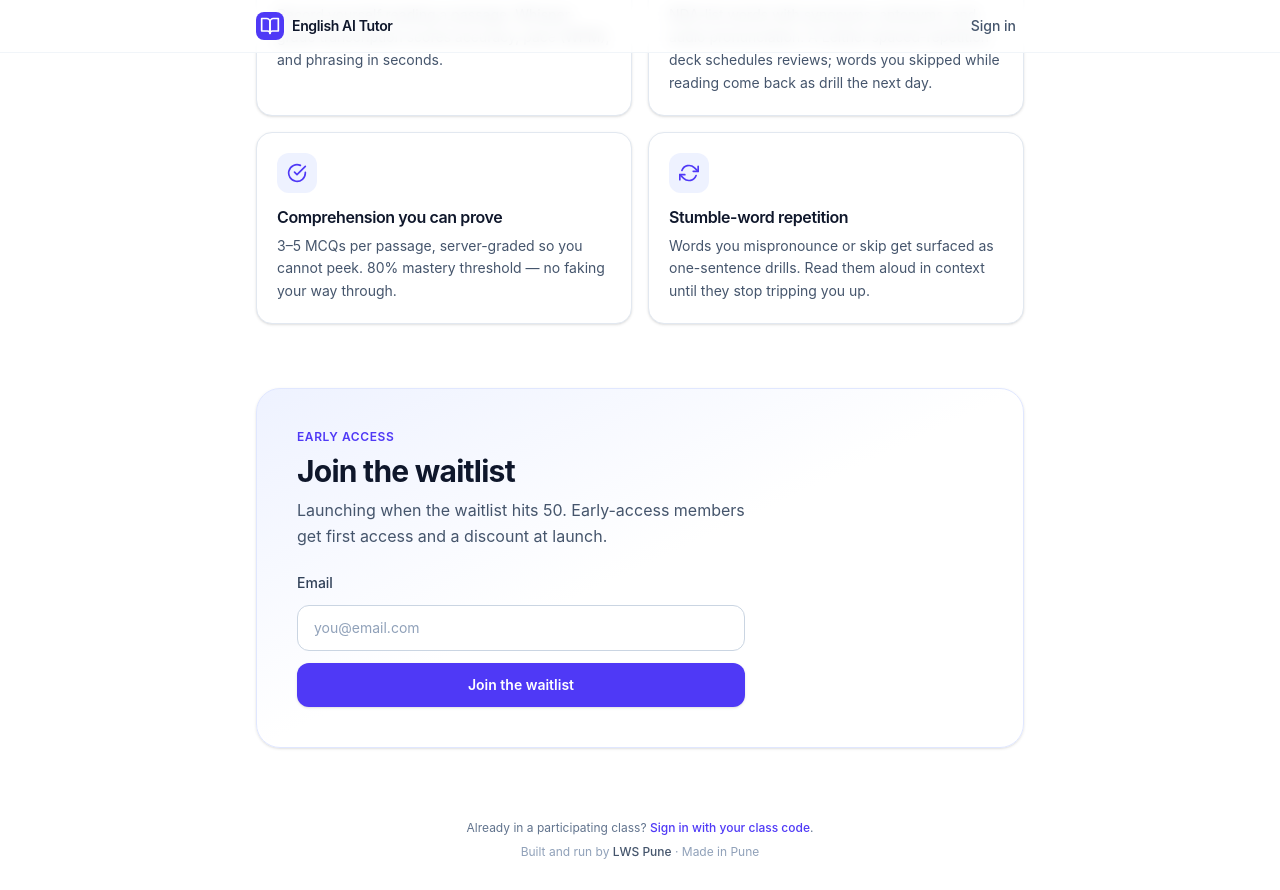
Test: LandingPage — waitlist form › shows a generic error for non-duplicate failures
(page scrolled)
Type "a@b.com" into the field labelled "Email" at (521,628), box [297,605,745,651]
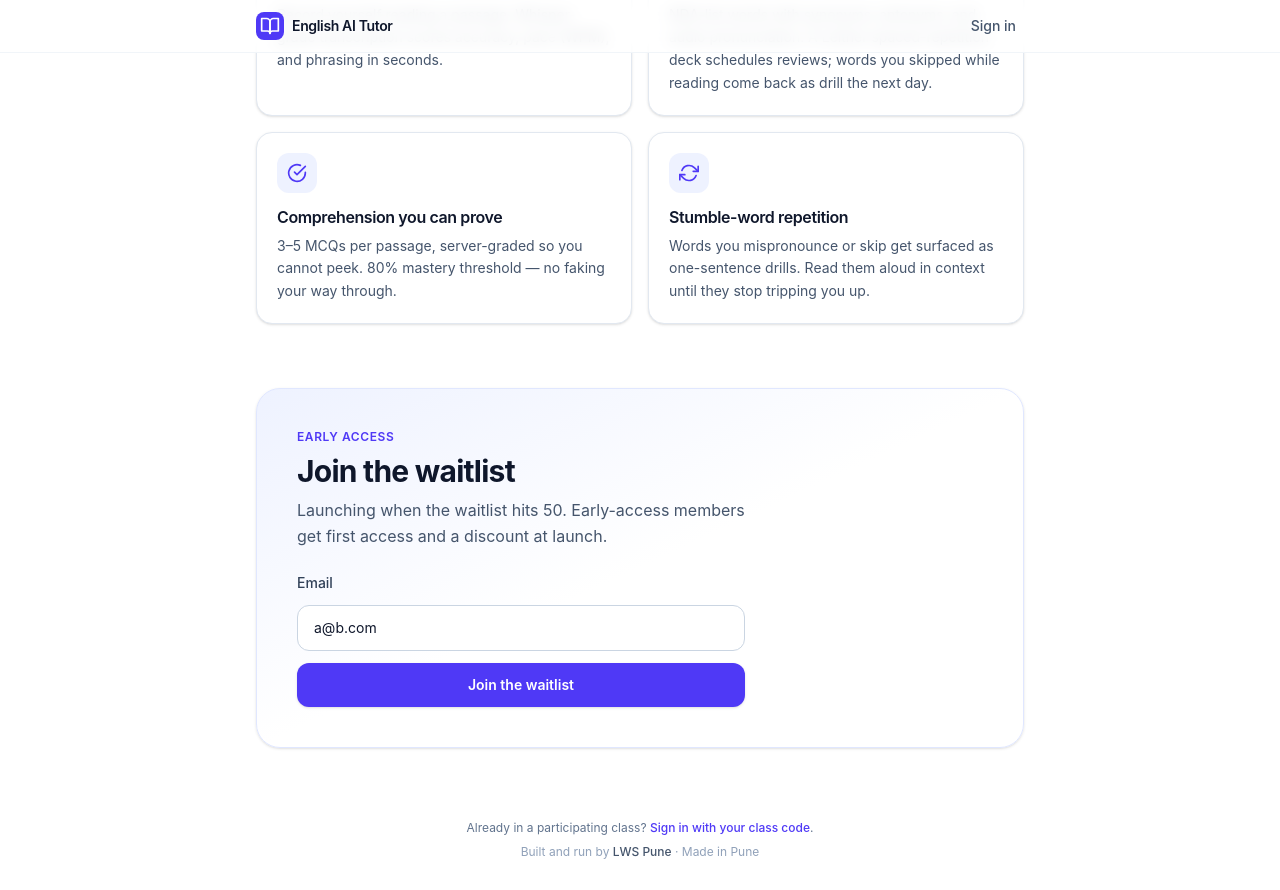
Click the button "Join the waitlist" at (521,685), box [297,663,745,707]
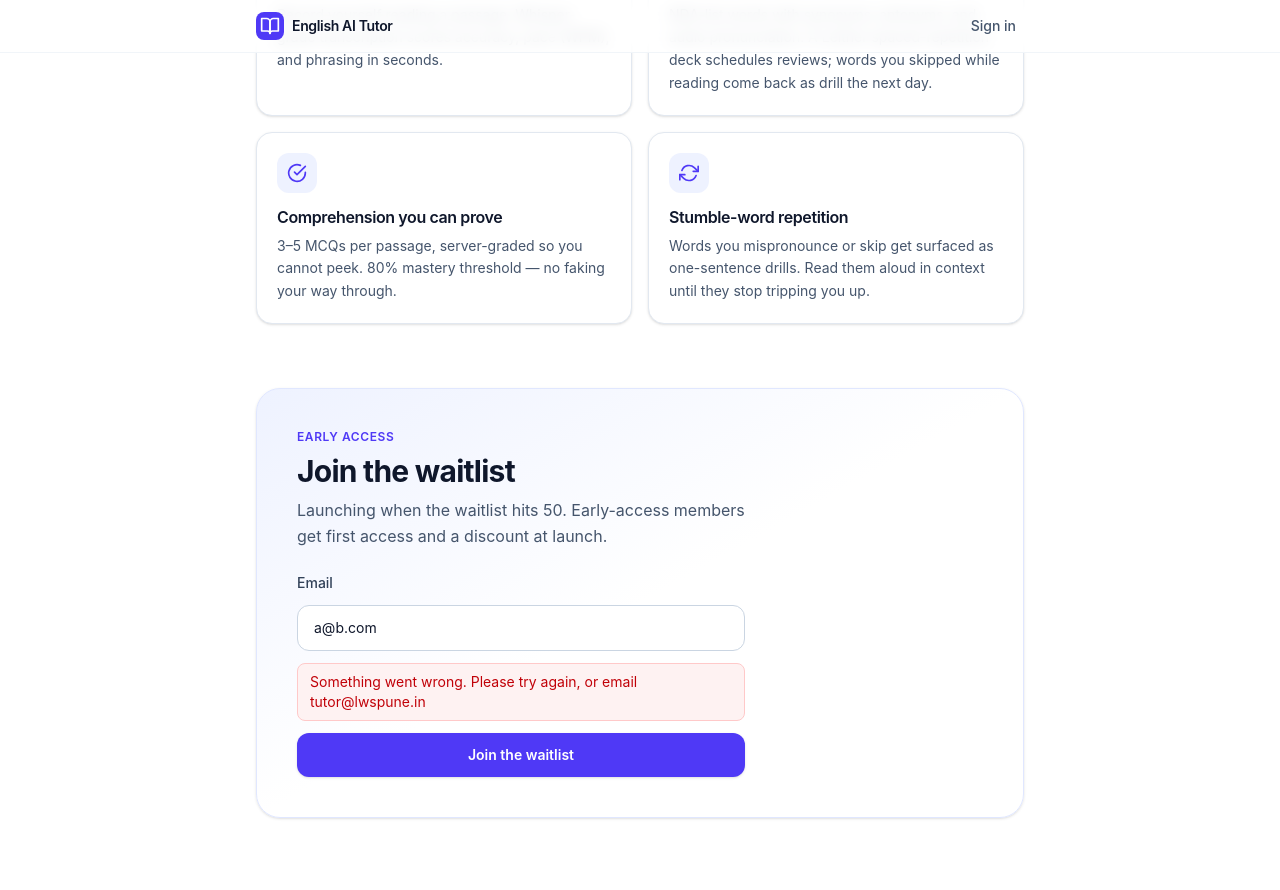
Expected: the message "Something went wrong. Please try again, or email tutor@lwspune.in" is shown, [297,663,745,721]
